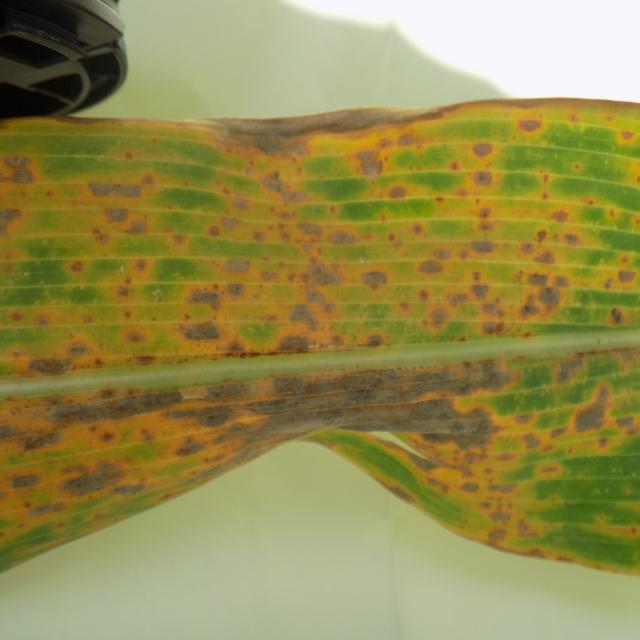millet_rust: (0, 94, 639, 578)
